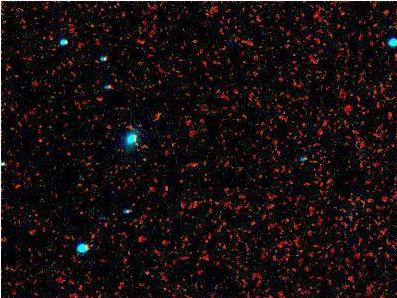star: (48, 32, 78, 62)
